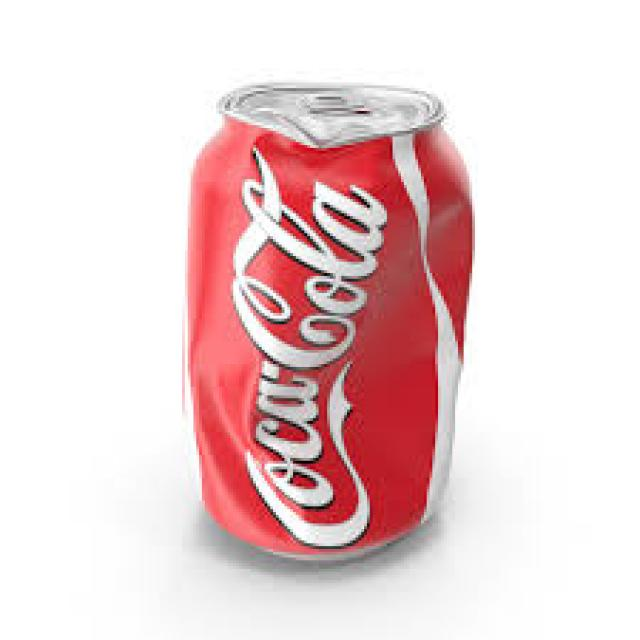aluminum_can: (188, 85, 475, 560)
